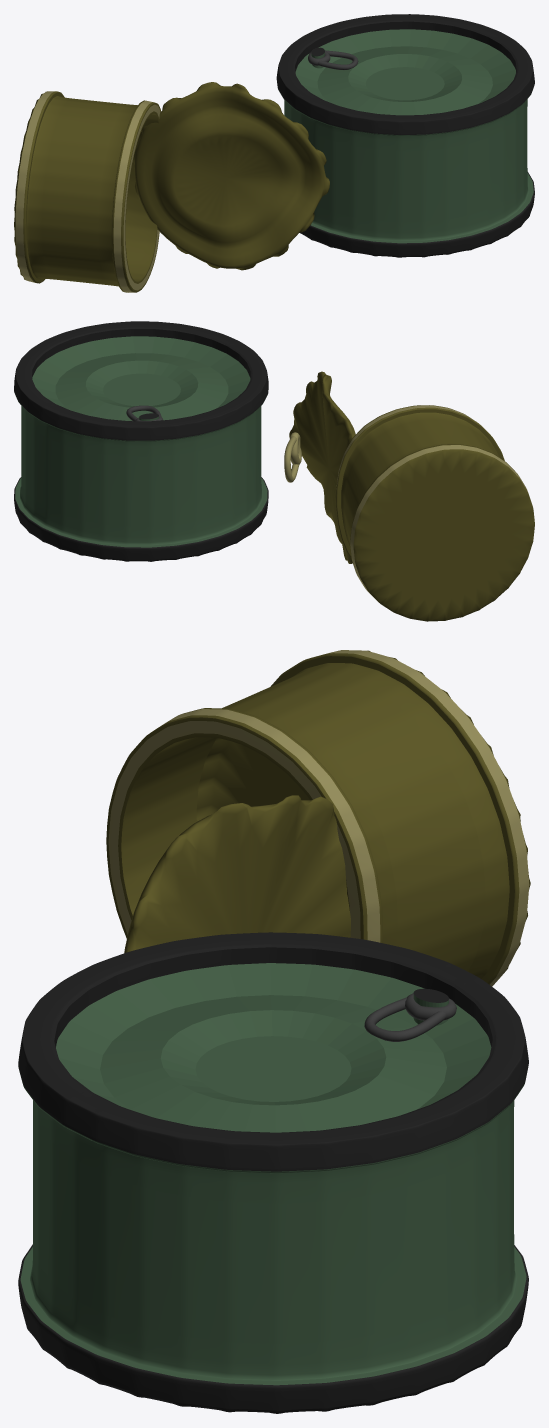
Rendered from Консервы .fbx.
3 renders of one model, top to bottom at view 1: azimuth 30°, elevation 25°; view 2: azimuth 150°, elevation 25°; view 3: azimuth 270°, elevation 25°, orthographic. The views are drawn at different scales.
Visible parts, largest first — view 1: Circle, Cylinder.001, BézierCircle.001; view 2: Circle, Cylinder.001, BézierCircle.003; view 3: Circle, Cylinder.001, BézierCircle.001.
Boxes of the visible parts, bbox=[...] form: Circle: bbox=[276, 14, 534, 257]; Cylinder.001: bbox=[14, 82, 329, 292]; BézierCircle.001: bbox=[308, 50, 358, 69]; Circle: bbox=[14, 321, 268, 561]; Cylinder.001: bbox=[289, 371, 534, 621]; BézierCircle.003: bbox=[284, 432, 301, 482]; Circle: bbox=[18, 932, 528, 1413]; Cylinder.001: bbox=[106, 650, 530, 986]; BézierCircle.001: bbox=[364, 993, 456, 1041].
Bounding box in the file's own units: 481 × 162 × 213.
